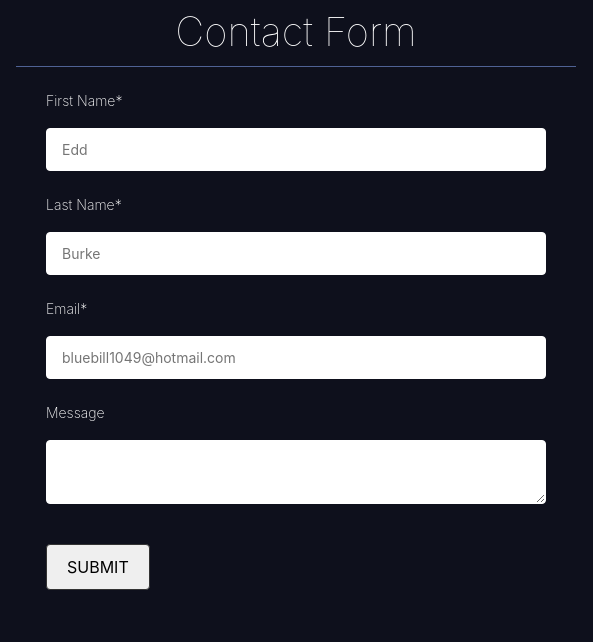
Test: renders ONE error message if user enters a valid first name and last name but no email.
Type "ehsan" into the field labelled "First Name*" at (296, 150), box [46, 128, 546, 171]
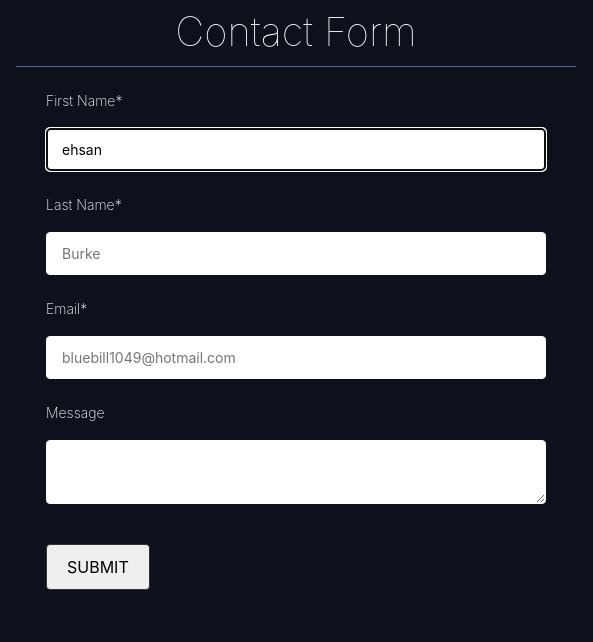
Type "rahimi" into the field labelled "Last Name*" at (296, 254), box [46, 232, 546, 275]
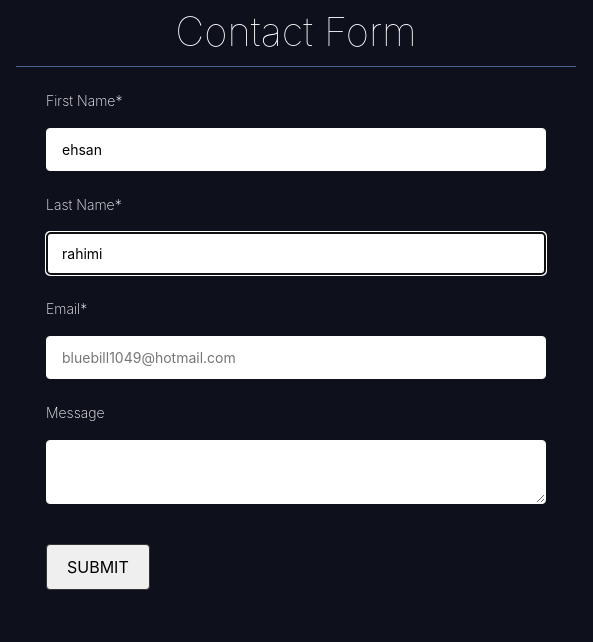
Click the button at (98, 567), box [46, 544, 150, 590]
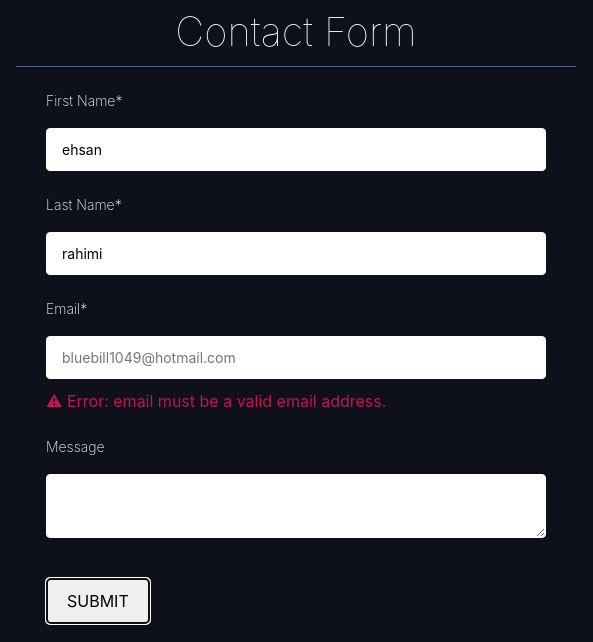
Now the number of elements with test id "error" is 1, box [67, 391, 386, 411]
